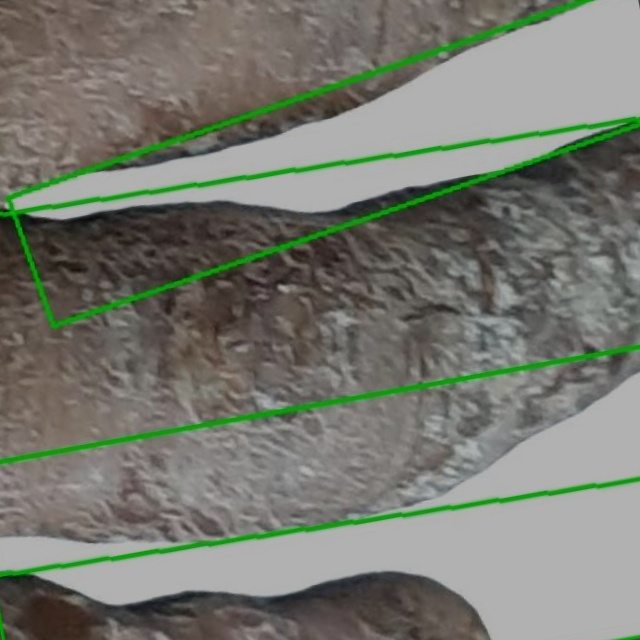Eczema: (0, 117, 639, 574), (7, 0, 639, 326), (0, 347, 639, 639)
